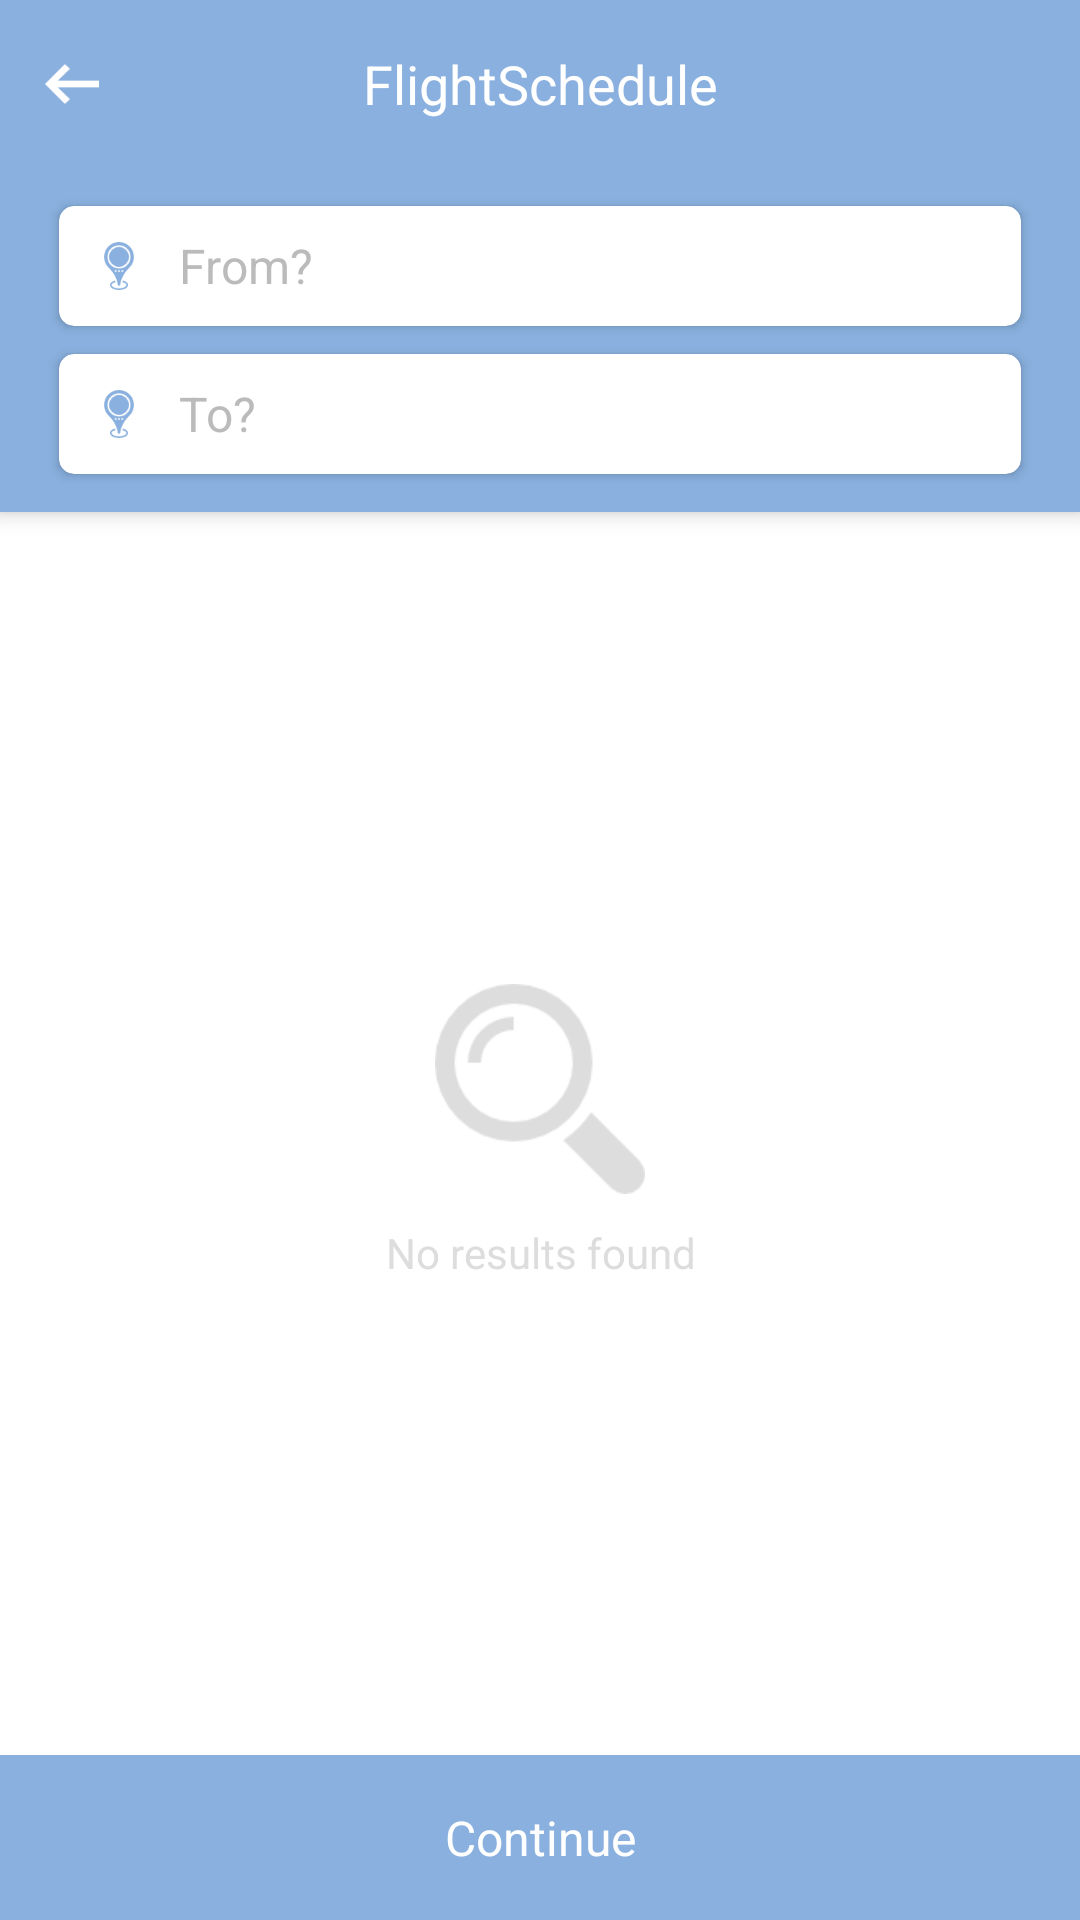

Screen size 1080px x 1920px. Icon name, then its center in pixels as point (x, y):
arrow left: point (72, 84)
marker: point (119, 266), point (119, 414)
